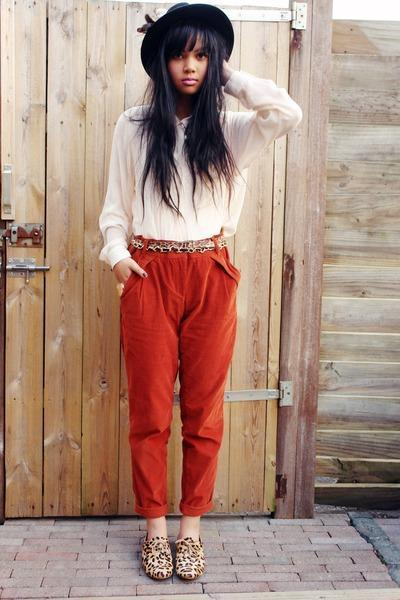hat: (137, 0, 233, 73)
pants: (119, 247, 238, 528)
shirt: (99, 66, 302, 266)
shoe: (134, 517, 206, 582)
